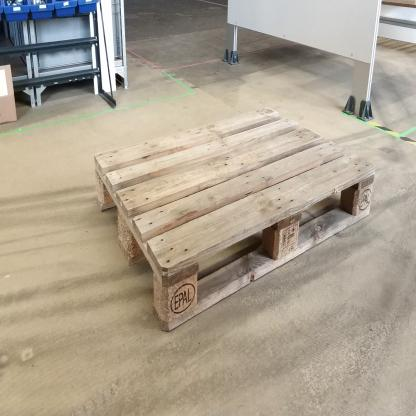BoxFace: (90, 101, 381, 342)
